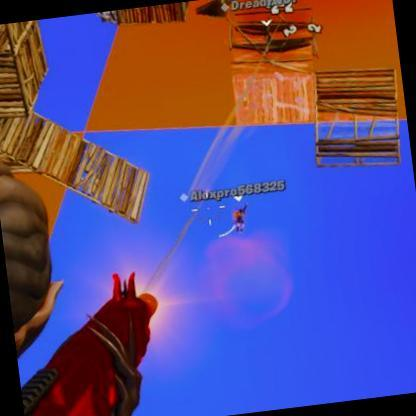person: (230, 209, 246, 236)
